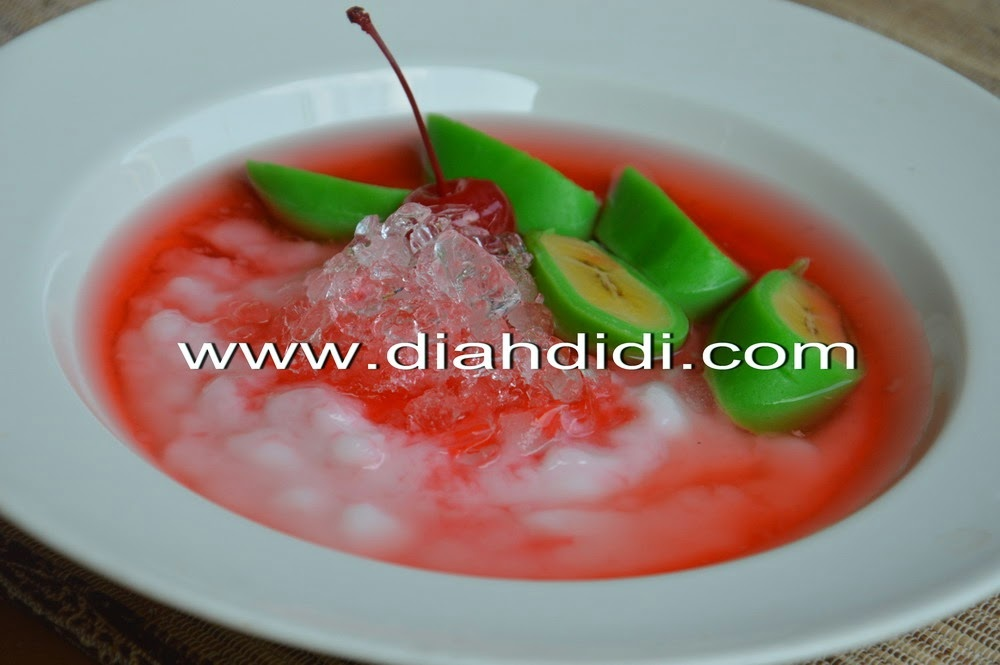es_pisang_ijo: (77, 108, 937, 585)
